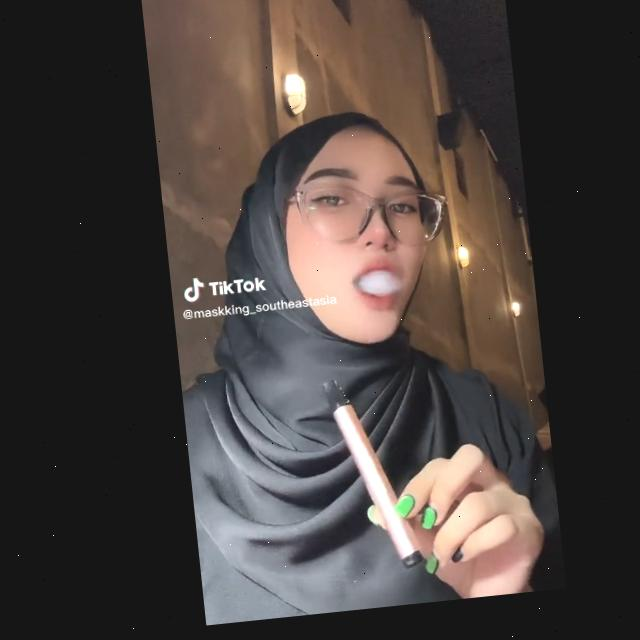vape: (312, 379, 410, 581)
